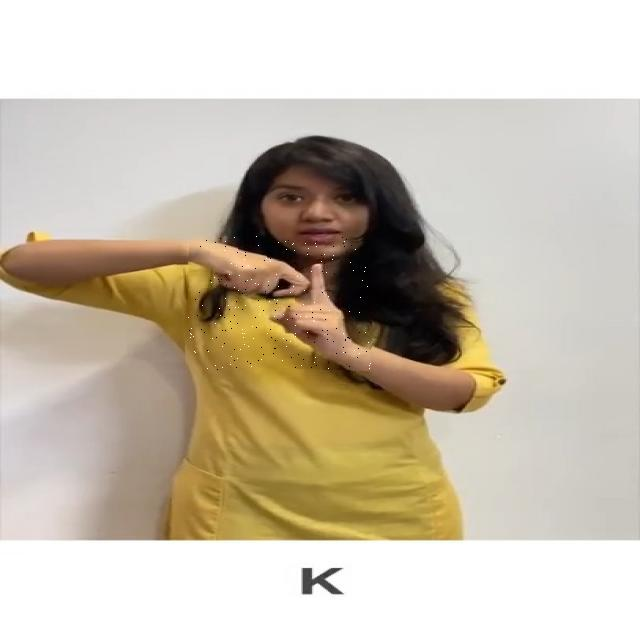K: (186, 236, 374, 370)
